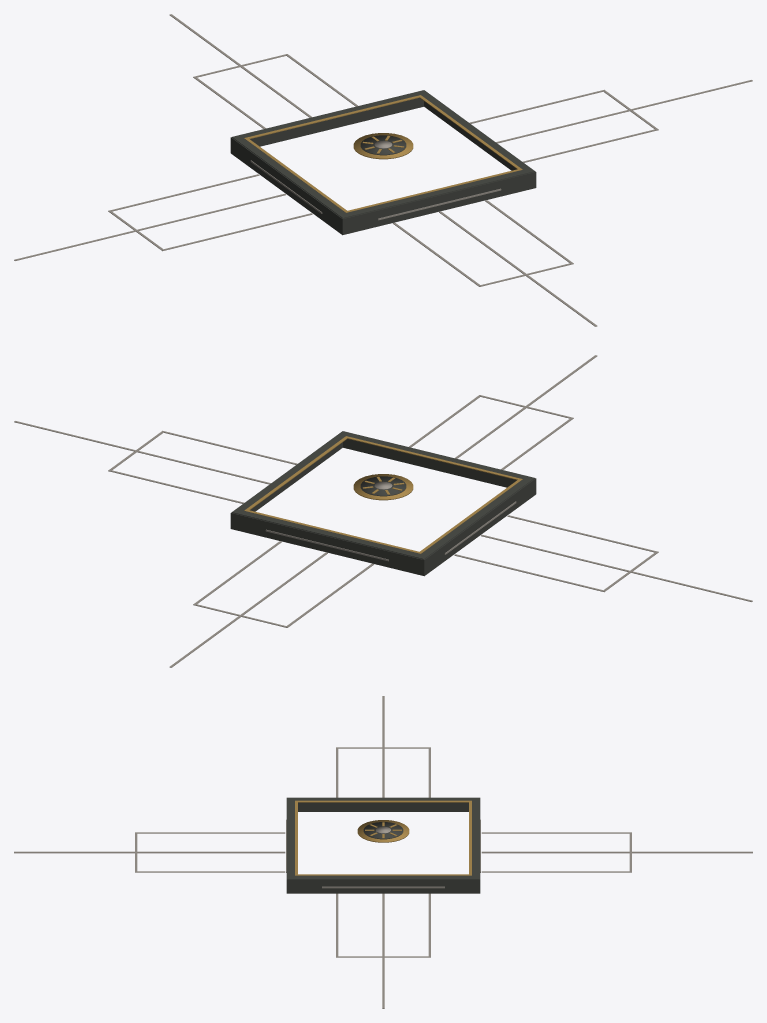
The model's file is b2_seal_dais.glb.
3 renders of one model, top to bottom at view 1: azimuth 30°, elevation 25°; view 2: azimuth 150°, elevation 25°; view 3: azimuth 270°, elevation 25°, orthographic. The views are drawn at different scales.
Visible parts, largest first — view 1: b2_seal_dais; view 2: b2_seal_dais; view 3: b2_seal_dais.
Boxes of the visible parts, left/top/right/bottom form: b2_seal_dais: left=14, top=14, right=752, bottom=326; b2_seal_dais: left=14, top=355, right=752, bottom=667; b2_seal_dais: left=14, top=696, right=752, bottom=1008.
Size of the model in its own units: 19.2 by 0.652 by 19.2.
